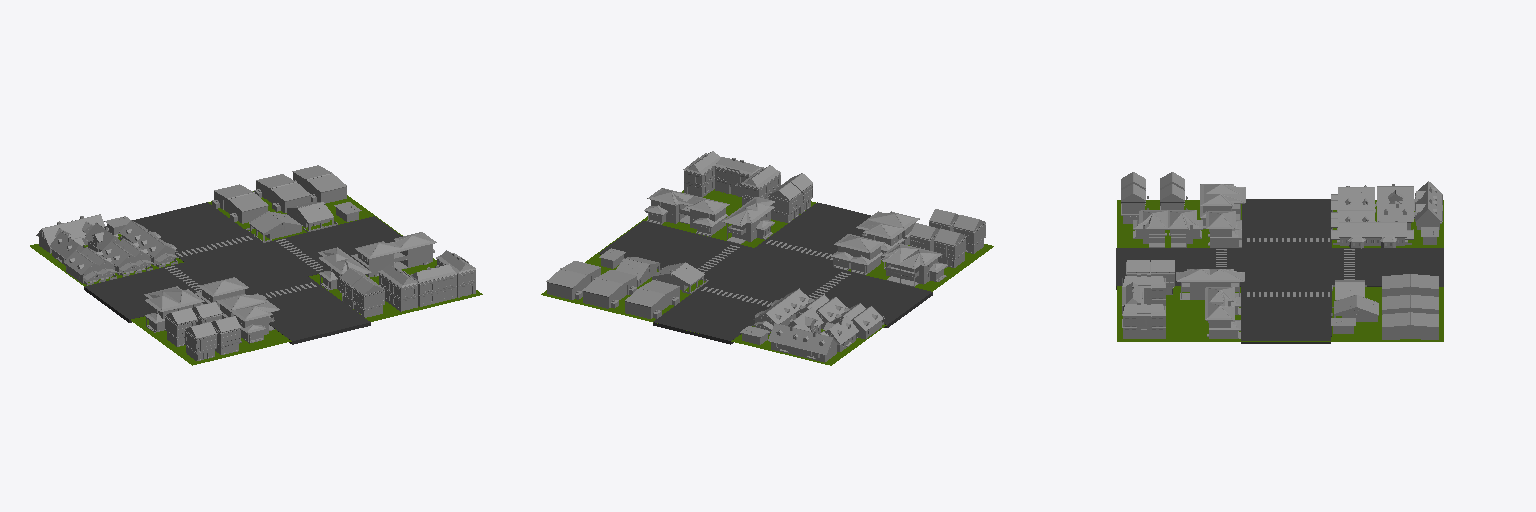
Rendered from stobj.obj.
3 renders of one model, left to right at view 1: azimuth 30°, elevation 25°; view 2: azimuth 150°, elevation 25°; view 3: azimuth 270°, elevation 25°, orthographic.
Visible parts, largest first — view 1: Line002, Plane001, City_building_026, City_building_022, City_building_007, City_building_038, City_building_016, City_building_011, City_building_023, City_building_004, City_building_010, City_building_014 (+15 smaller); view 2: Line002, Plane001, City_building_026, City_building_038, City_building_033, City_building_034, City_building_037, City_building_022, City_building_007, City_building_011, City_building_023, City_building_014 (+13 smaller); view 3: Line002, Plane001, City_building_022, City_building_014, City_building_026, City_building_017, City_building_023, City_building_034, City_building_038, City_building_037, City_building_007, City_building_033 (+12 smaller).
Boxes of the visible parts, x1=… form: Line002: x1=84, y1=202, x2=402, y2=344; Plane001: x1=30, y1=191, x2=482, y2=365; City_building_026: x1=351, y1=232, x2=436, y2=277; City_building_022: x1=216, y1=293, x2=279, y2=343; City_building_007: x1=212, y1=184, x2=268, y2=223; City_building_038: x1=144, y1=286, x2=204, y2=332; City_building_016: x1=410, y1=264, x2=456, y2=306; City_building_011: x1=254, y1=174, x2=310, y2=212; City_building_023: x1=292, y1=165, x2=346, y2=203; City_building_004: x1=64, y1=247, x2=118, y2=285; City_building_010: x1=378, y1=264, x2=418, y2=311; City_building_014: x1=118, y1=220, x2=178, y2=267; Line002: x1=598, y1=202, x2=932, y2=344; Plane001: x1=541, y1=189, x2=993, y2=365; City_building_026: x1=644, y1=188, x2=729, y2=236; City_building_038: x1=882, y1=243, x2=947, y2=286; City_building_033: x1=768, y1=323, x2=839, y2=362; City_building_034: x1=722, y1=197, x2=774, y2=244; City_building_037: x1=831, y1=234, x2=884, y2=274; City_building_022: x1=856, y1=211, x2=919, y2=259; City_building_007: x1=625, y1=280, x2=679, y2=318; City_building_011: x1=582, y1=270, x2=636, y2=308; City_building_023: x1=546, y1=261, x2=600, y2=299; City_building_014: x1=752, y1=288, x2=810, y2=334; Line002: x1=1116, y1=199, x2=1443, y2=343; Plane001: x1=1117, y1=200, x2=1443, y2=341; City_building_022: x1=1133, y1=210, x2=1202, y2=247; City_building_014: x1=1331, y1=221, x2=1413, y2=248; City_building_026: x1=1205, y1=287, x2=1240, y2=338; City_building_017: x1=1122, y1=303, x2=1165, y2=338; City_building_023: x1=1382, y1=312, x2=1438, y2=339; City_building_034: x1=1176, y1=269, x2=1244, y2=299; City_building_038: x1=1200, y1=184, x2=1245, y2=228; City_building_037: x1=1206, y1=211, x2=1241, y2=247; City_building_007: x1=1382, y1=274, x2=1438, y2=296; City_building_033: x1=1414, y1=181, x2=1442, y2=229.
Bounding box in the file's own units: 96.86 × 11.25 × 94.37.